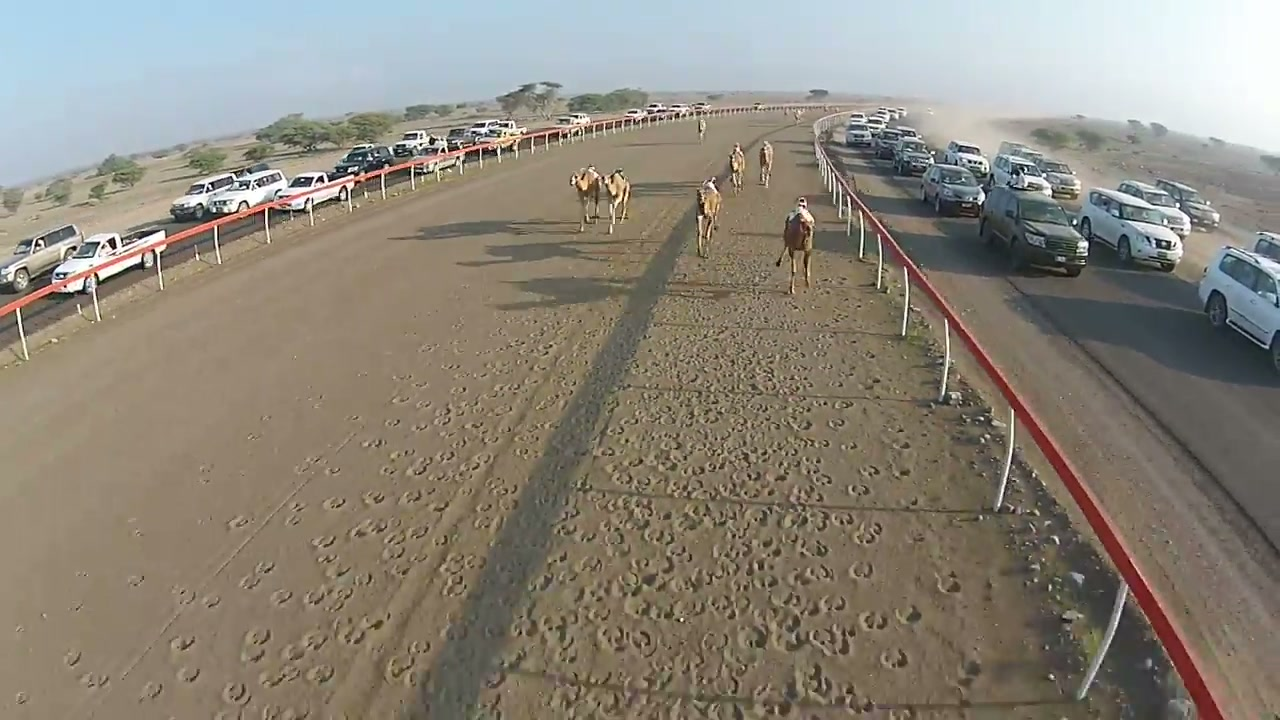animal_footprint: (536, 389, 920, 676), (784, 663, 835, 702), (807, 624, 855, 656), (770, 614, 805, 652), (788, 564, 834, 586), (383, 653, 415, 684), (258, 664, 299, 688), (596, 624, 629, 653), (348, 518, 389, 539), (627, 629, 656, 657), (808, 595, 847, 615), (787, 485, 825, 505), (957, 658, 982, 687), (335, 622, 366, 645), (385, 556, 417, 578), (383, 530, 409, 557), (854, 521, 883, 545), (750, 537, 783, 558), (737, 626, 767, 649), (221, 683, 250, 706), (700, 632, 730, 654), (441, 573, 468, 597), (880, 648, 909, 669), (300, 629, 327, 651), (797, 539, 829, 557), (324, 562, 351, 583), (404, 457, 432, 477), (306, 664, 334, 684), (358, 613, 389, 631), (242, 627, 271, 646), (859, 611, 888, 630), (936, 571, 961, 593), (294, 456, 324, 474), (806, 467, 833, 486), (895, 605, 922, 624), (79, 672, 109, 689), (303, 587, 327, 608), (483, 670, 507, 690), (169, 635, 195, 653), (280, 643, 306, 661), (139, 681, 162, 701), (241, 645, 265, 664), (826, 512, 856, 527), (849, 561, 873, 579), (399, 489, 423, 507), (175, 666, 200, 683), (239, 573, 262, 591), (172, 588, 196, 605), (270, 588, 292, 606), (431, 450, 457, 465), (362, 490, 385, 506), (405, 524, 428, 540), (382, 545, 405, 561), (787, 418, 813, 432), (886, 708, 918, 719), (389, 448, 415, 461), (227, 515, 251, 529), (311, 535, 335, 549), (859, 464, 881, 479), (323, 496, 346, 510), (891, 464, 912, 479), (63, 650, 81, 667), (201, 593, 220, 609), (361, 436, 385, 448), (847, 484, 871, 496), (379, 464, 400, 477), (288, 499, 307, 513), (411, 421, 433, 433), (839, 440, 861, 452), (432, 414, 454, 426), (315, 553, 338, 564), (255, 561, 273, 575), (198, 465, 212, 483), (463, 421, 485, 432), (892, 438, 911, 450), (390, 394, 412, 404), (284, 514, 302, 526), (828, 417, 846, 429), (414, 399, 432, 410), (449, 385, 467, 396), (383, 418, 400, 428), (325, 465, 341, 475), (246, 432, 262, 440)
